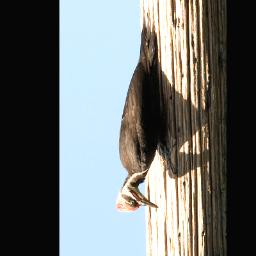Woodpecker: (115, 13, 177, 213)
